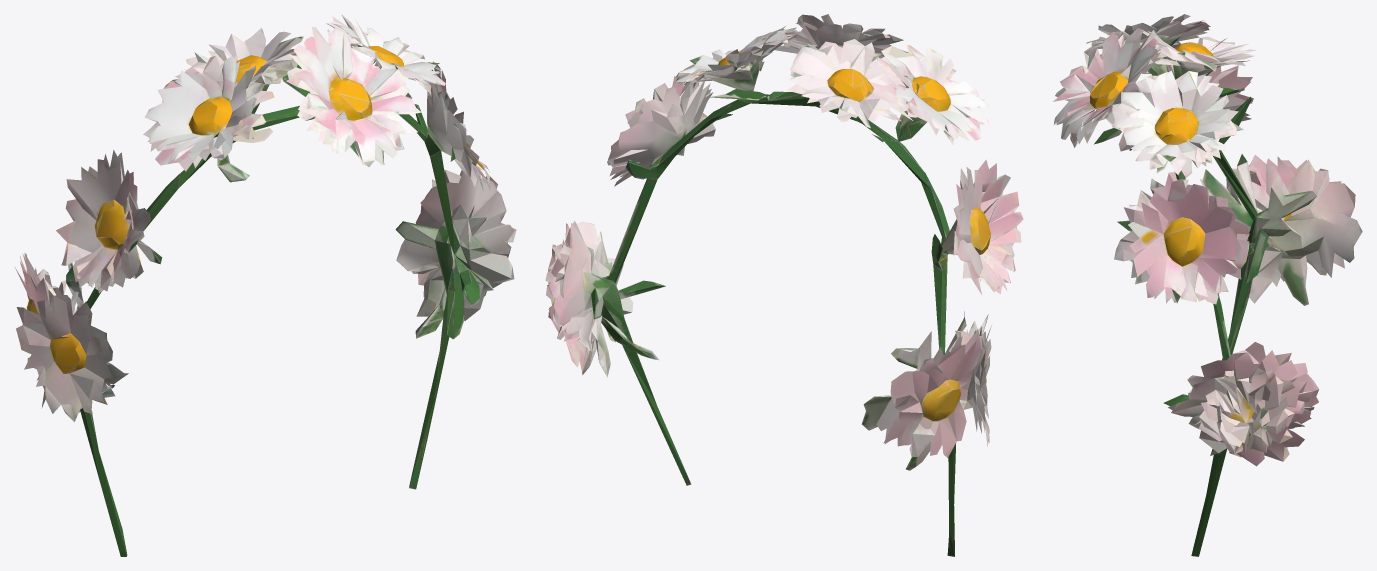
File: flower-crown.glb
The picture shows the model from 3 angles, left to right: view 1: azimuth 30°, elevation 25°; view 2: azimuth 150°, elevation 25°; view 3: azimuth 270°, elevation 25°; orthographic projection. The views are drawn at different scales.
Visible parts, largest first — view 1: mesh_node; view 2: mesh_node; view 3: mesh_node.
Part boxes in pixels (x1,y1,x2,y2): mesh_node: [14, 14, 516, 556]; mesh_node: [545, 14, 1023, 556]; mesh_node: [1053, 14, 1362, 556].
Size of the model in its own units: 1.83 by 1.9 by 1.13.
Materials: 1 (1 with a texture image).
